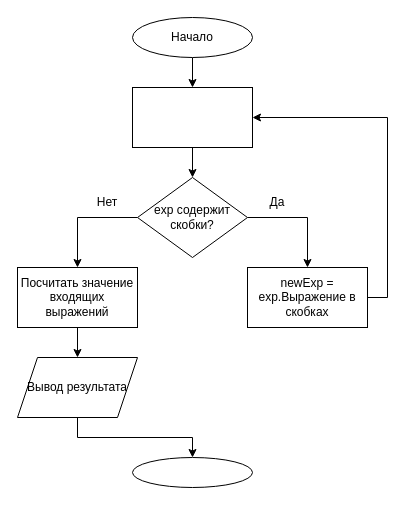
This 413x505 diagram has some shape labels left out. Here are the shapes that lost their labels. From the top down, the centre of each, then its label:
the point at 192,117: Ввод выражения exp
the point at 192,472: Конец
